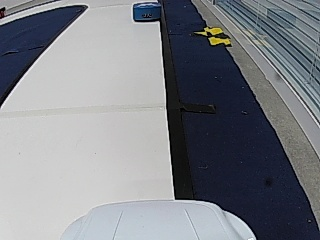prop: (133, 2, 160, 23)
